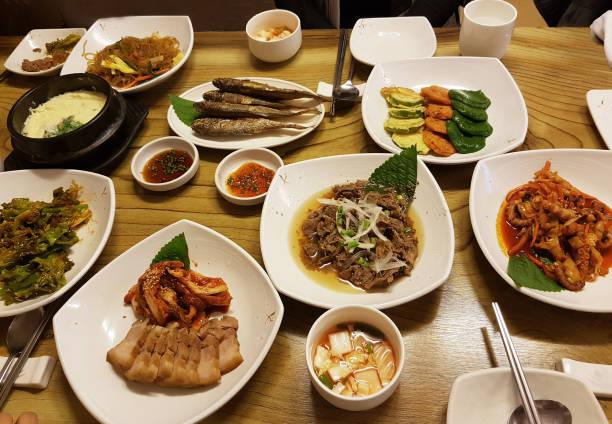Braised Crucian Carp: (55, 220, 278, 424), (258, 152, 451, 308), (470, 149, 611, 312), (0, 169, 121, 322), (361, 56, 526, 165), (0, 70, 143, 179), (169, 76, 320, 150), (71, 13, 195, 94)
